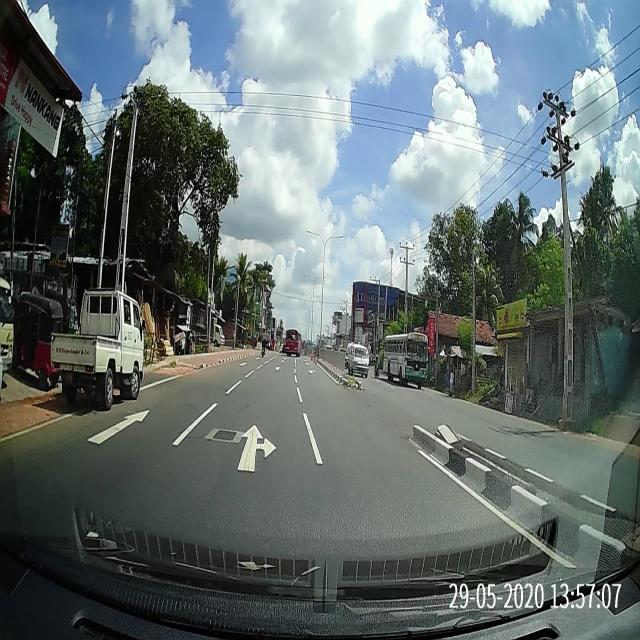forward_right: (146, 415, 336, 485), (144, 428, 336, 488), (144, 434, 338, 489)
